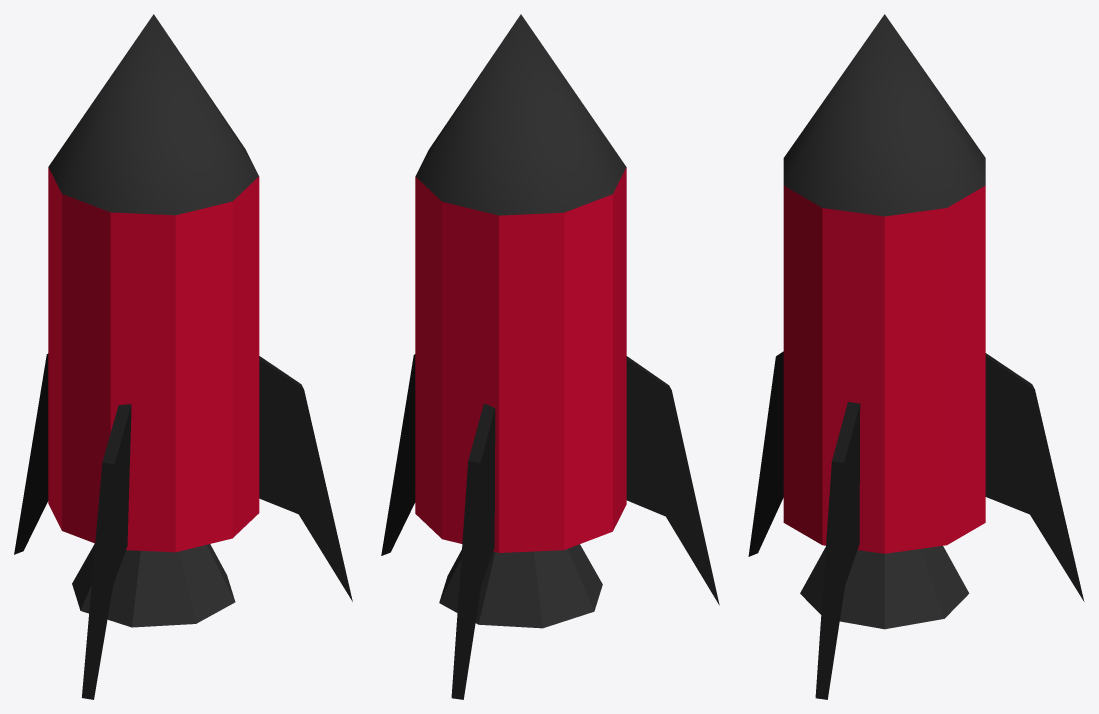
File: Rocket.fbx
3 renders of one model, left to right at view 1: azimuth 30°, elevation 25°; view 2: azimuth 150°, elevation 25°; view 3: azimuth 270°, elevation 25°, orthographic.
Parts seen in each view (by area): view 1: pCylinder1, pCube2, pCone1, pCube4, pCube3; view 2: pCylinder1, pCube4, pCone1, pCube3, pCube2; view 3: pCylinder1, pCube3, pCone1, pCube2, pCube4.
Part boxes in pixels (<box>): pCylinder1: <box>48,14,259,552</box>; pCube2: <box>259,356,352,601</box>; pCone1: <box>72,543,235,627</box>; pCube4: <box>81,404,131,699</box>; pCube3: <box>14,353,48,554</box>; pCylinder1: <box>415,14,626,552</box>; pCube4: <box>626,356,719,605</box>; pCone1: <box>439,544,602,628</box>; pCube3: <box>451,403,495,699</box>; pCube2: <box>381,354,415,555</box>; pCylinder1: <box>783,14,985,553</box>; pCube3: <box>985,353,1084,601</box>; pCone1: <box>800,546,969,629</box>; pCube2: <box>815,402,860,699</box>; pCube4: <box>748,351,783,556</box>.
Size of the model in its own units: 8.68 by 16.54 by 8.32.
